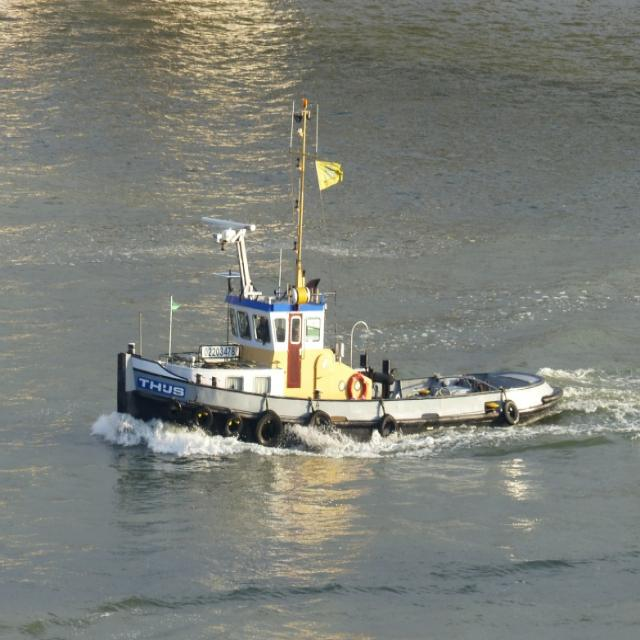tugboat: (113, 93, 569, 466)
